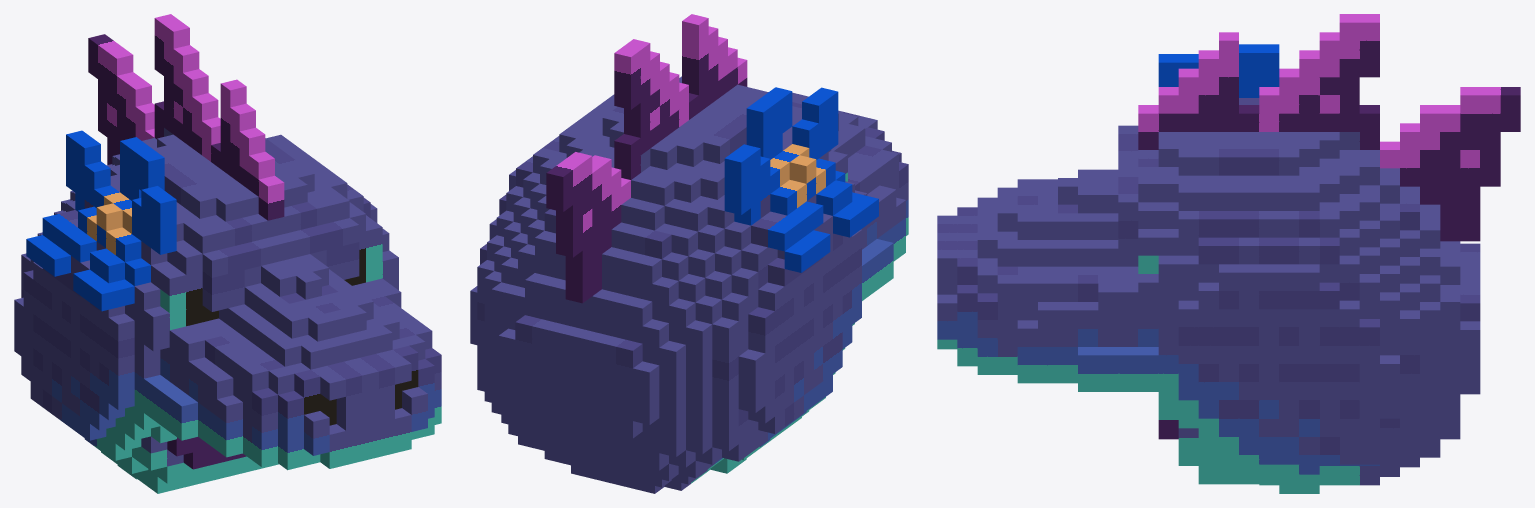
The model's file is blue flower.gltf.
The picture shows the model from 3 angles, left to right: view 1: azimuth 30°, elevation 25°; view 2: azimuth 150°, elevation 25°; view 3: azimuth 270°, elevation 25°; orthographic projection. The views are drawn at different scales.
Parts seen in each view (by area): view 1: 15_Head_flower_blue-Mesh; view 2: 15_Head_flower_blue-Mesh; view 3: 15_Head_flower_blue-Mesh.
Part boxes in pixels (x1,y1,x2,y2): 15_Head_flower_blue-Mesh: (14, 14, 441, 493); 15_Head_flower_blue-Mesh: (470, 14, 908, 493); 15_Head_flower_blue-Mesh: (937, 14, 1520, 493).
Size of the model in its own units: 18 by 24 by 29.
1 material, 1 textured.
